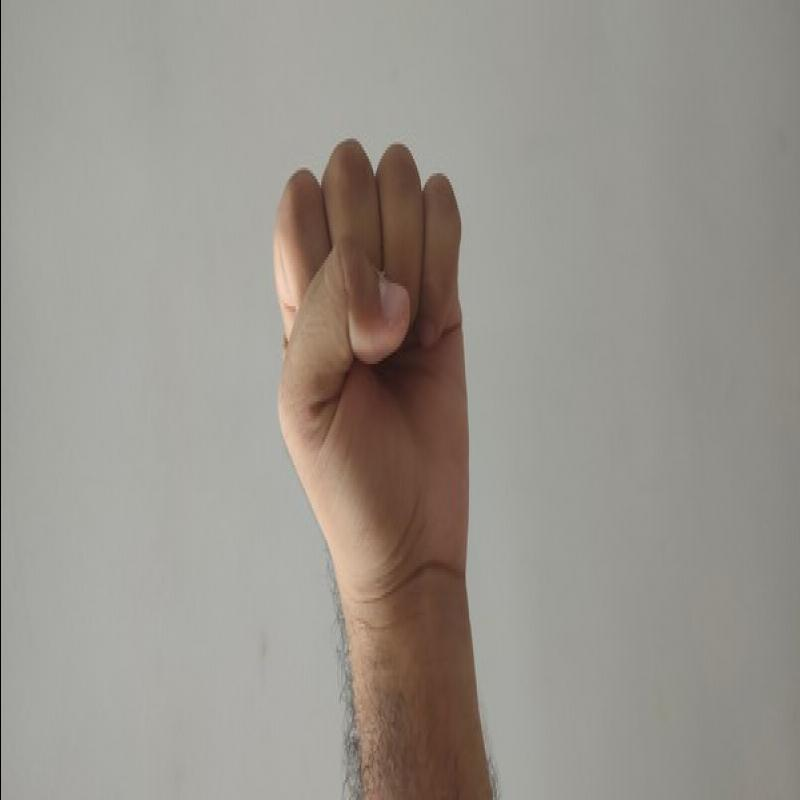Mushti: (250, 119, 492, 618)
